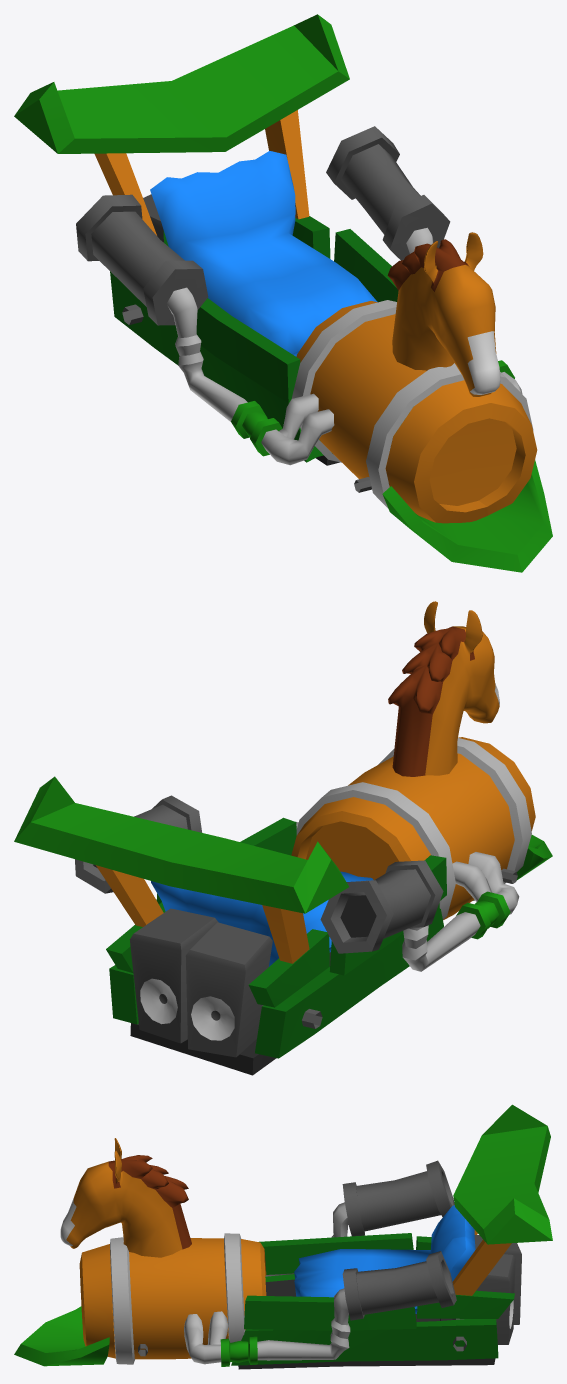
Rendered from War_Horse.fbx.
3 views of the same model, one above another, from view 1: azimuth 30°, elevation 25°; view 2: azimuth 150°, elevation 25°; view 3: azimuth 270°, elevation 25° (orthographic). The views are drawn at different scales.
Parts seen in each view (by area): view 1: War_Horse_Body1; view 2: War_Horse_Body1; view 3: War_Horse_Body1.
Part boxes in pixels (x1,y1,x2,y2): War_Horse_Body1: [14, 14, 552, 572]; War_Horse_Body1: [14, 601, 552, 1075]; War_Horse_Body1: [14, 1104, 552, 1369].
Size of the model in its own units: 95.79 by 83.53 by 191.
